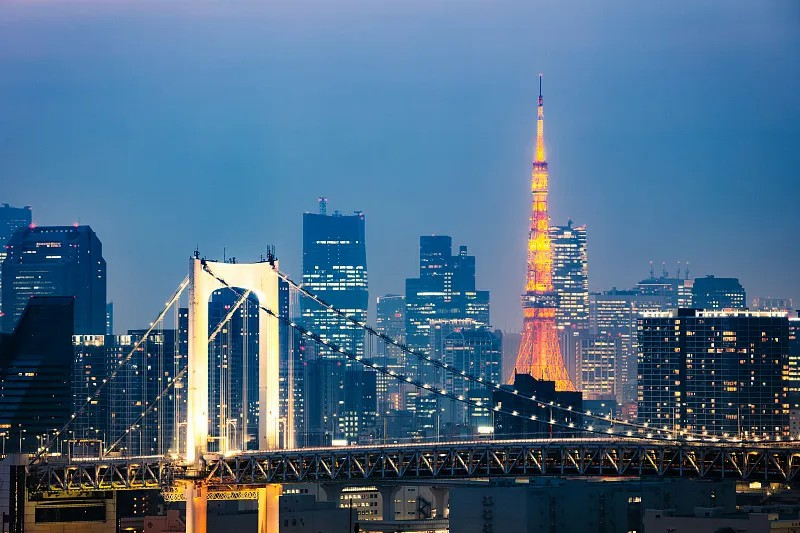Tokyo: (504, 73, 577, 390)
